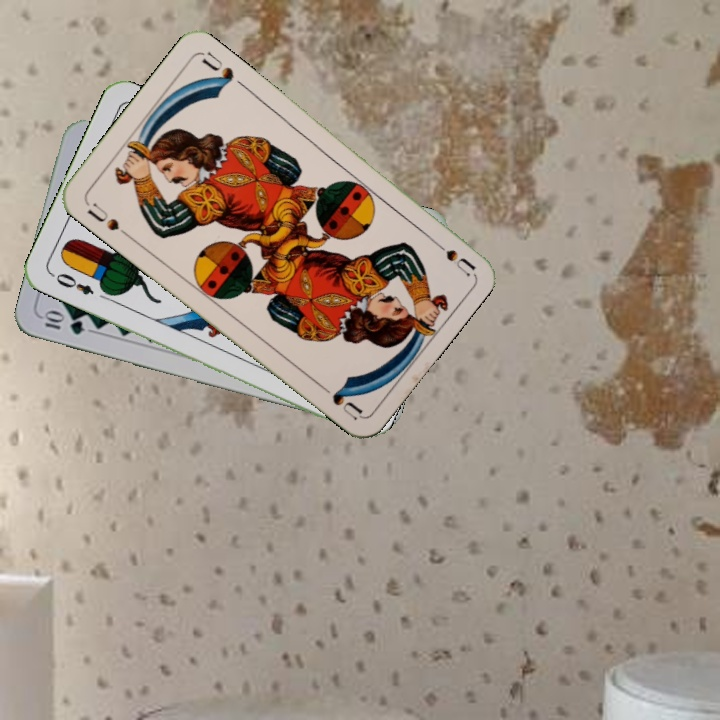EO: (47, 269, 97, 298)
G10: (38, 308, 87, 338)
SU: (425, 232, 477, 278), (82, 198, 132, 240)
